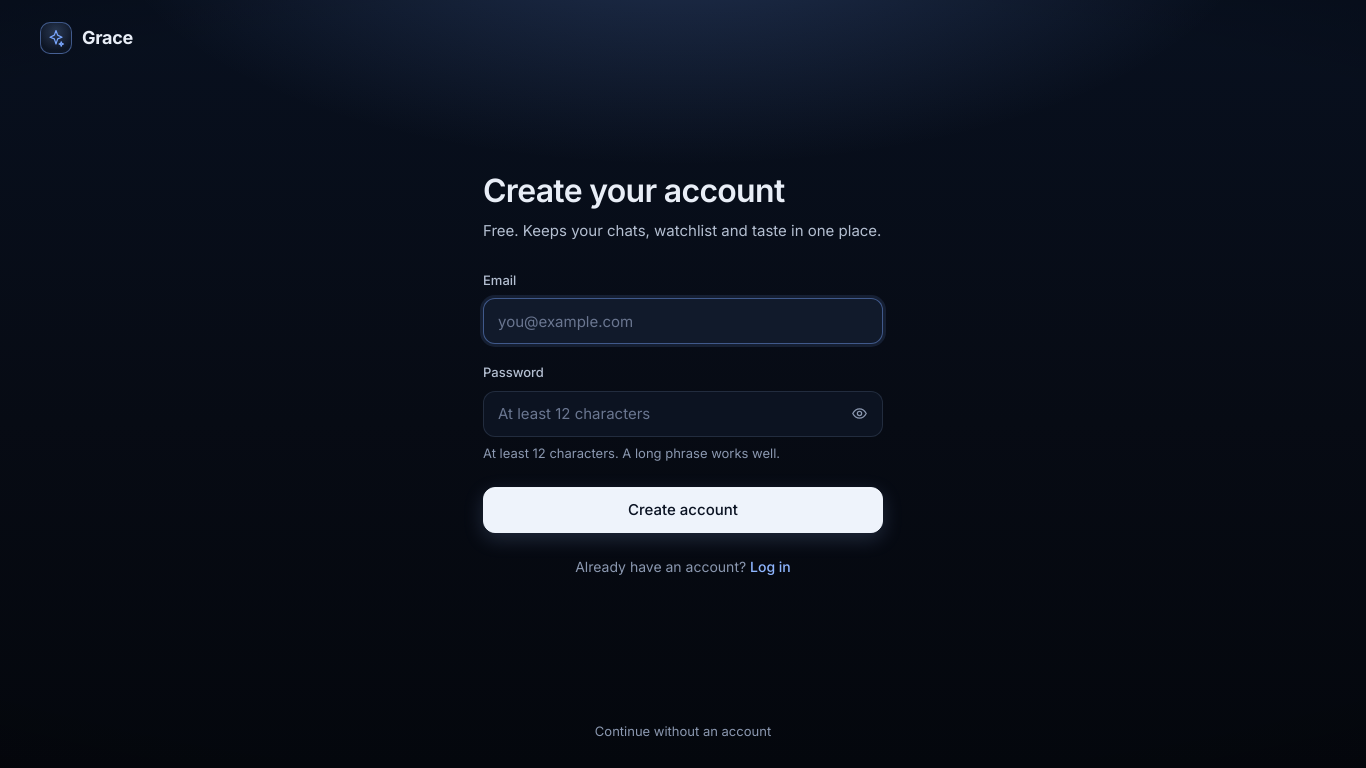
Test: AuthForm › shows no errors before interaction, then field-level errors on blur and submit
The image size is (1366, 768).
Expected: the button "Create account" is enabled, [483,487,883,533]
Type "not-an-email" into the field labelled "Email".
click(683, 321); type("not-an-email")  # box [483,298,883,344]
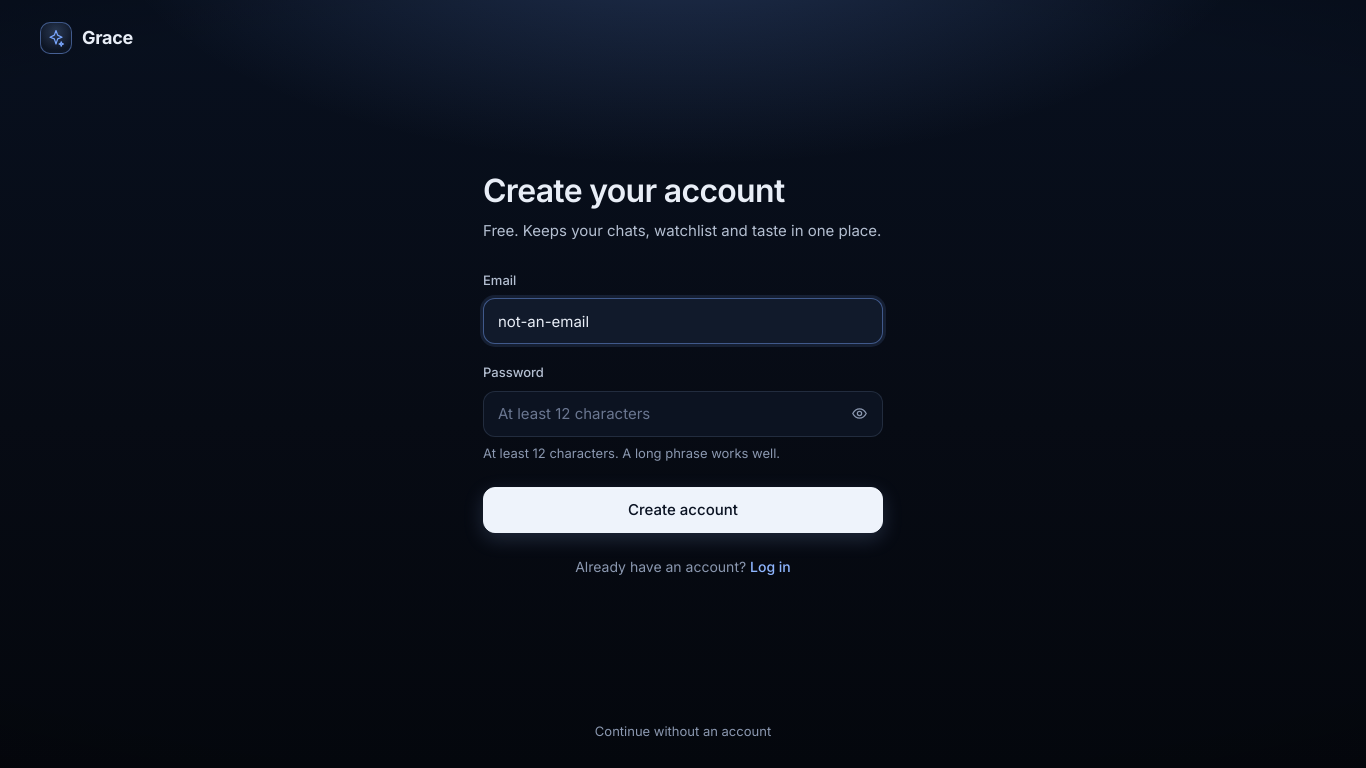
Leave the field labelled "Email", box [483,298,883,344]
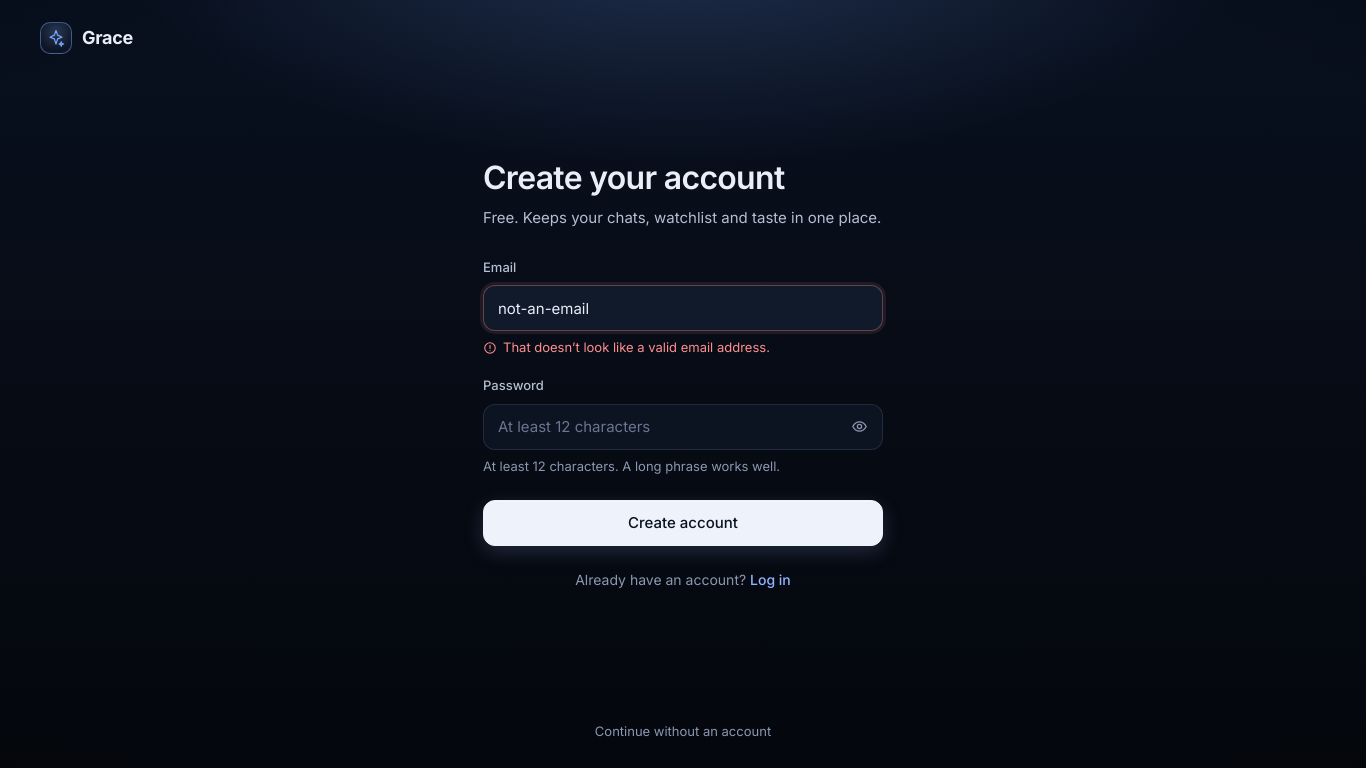
Expected: the text "That doesn’t look like a valid email address." is shown, [483,339,770,355]
Replace the text in the field labelled "Email" with "person@example.com" at (683, 308), box [483,285,883,331]
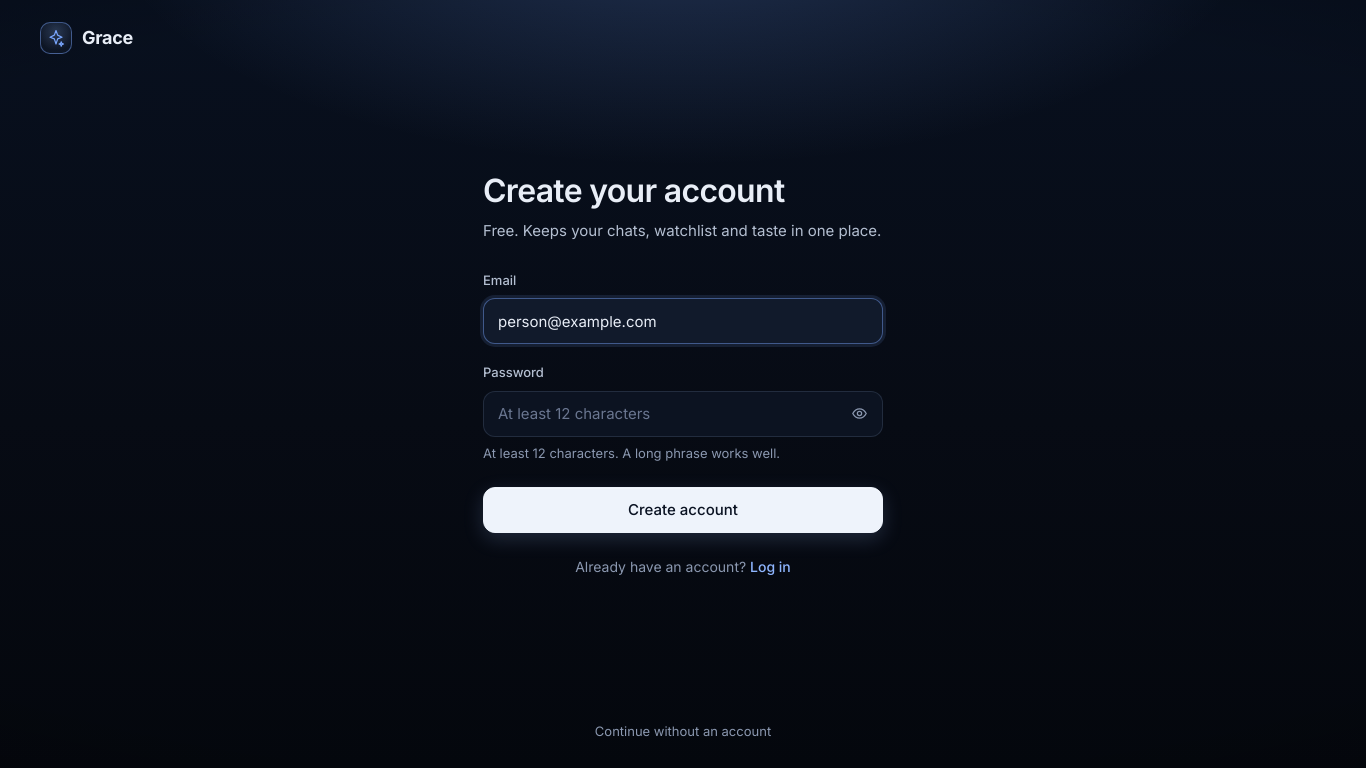
Type "short" into the password field labelled "Password".
click(683, 414); type("short")  # box [483,391,883,437]
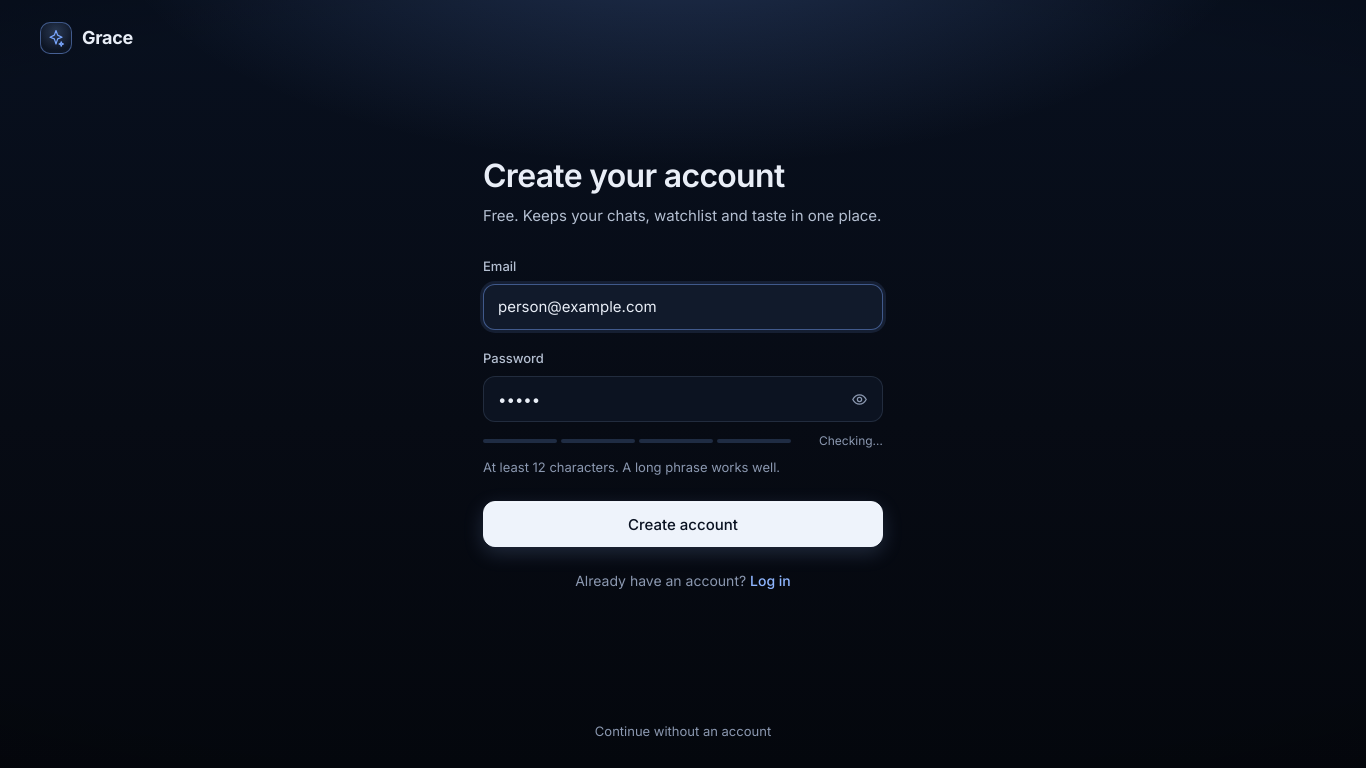
Click the button "Create account".
click(683, 524)  # box [483,501,883,547]
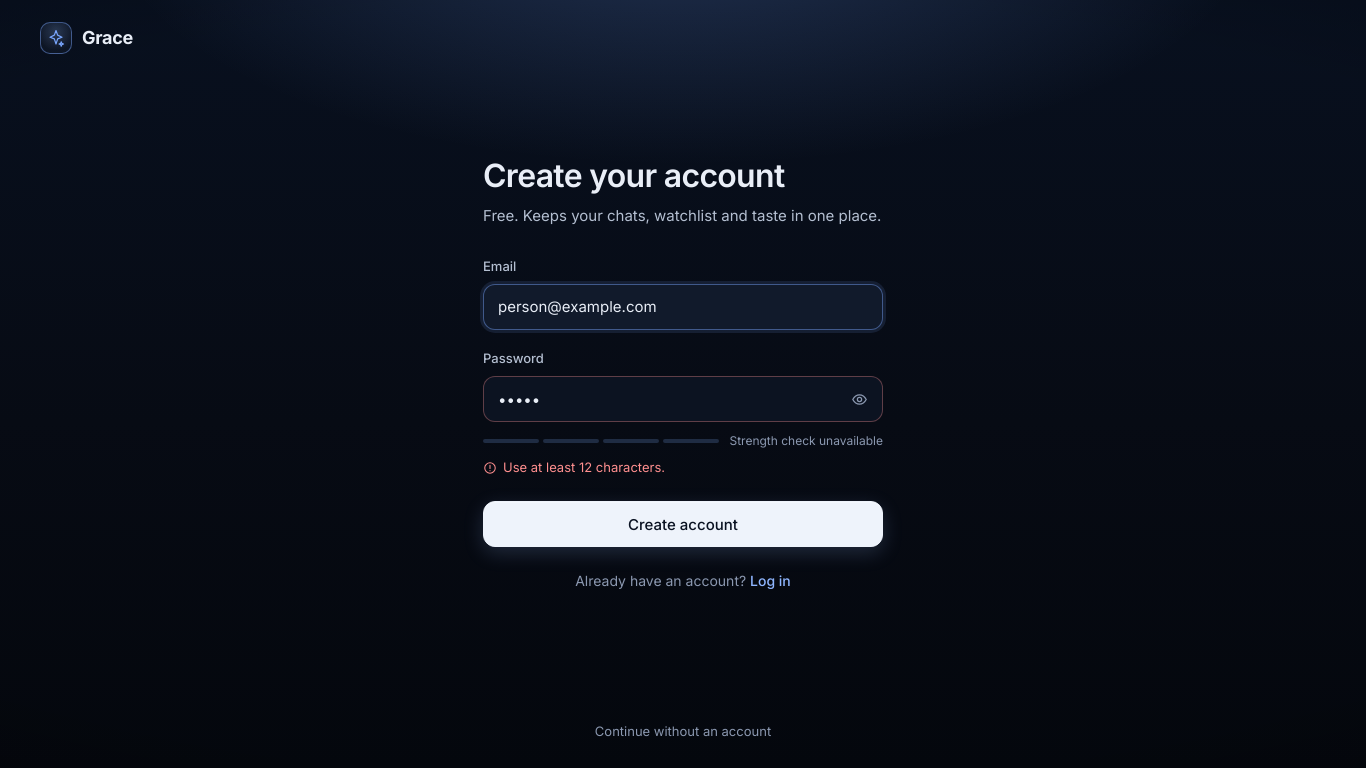
Expected: the text "Use at least 12 characters." is shown, [483,459,665,475]
